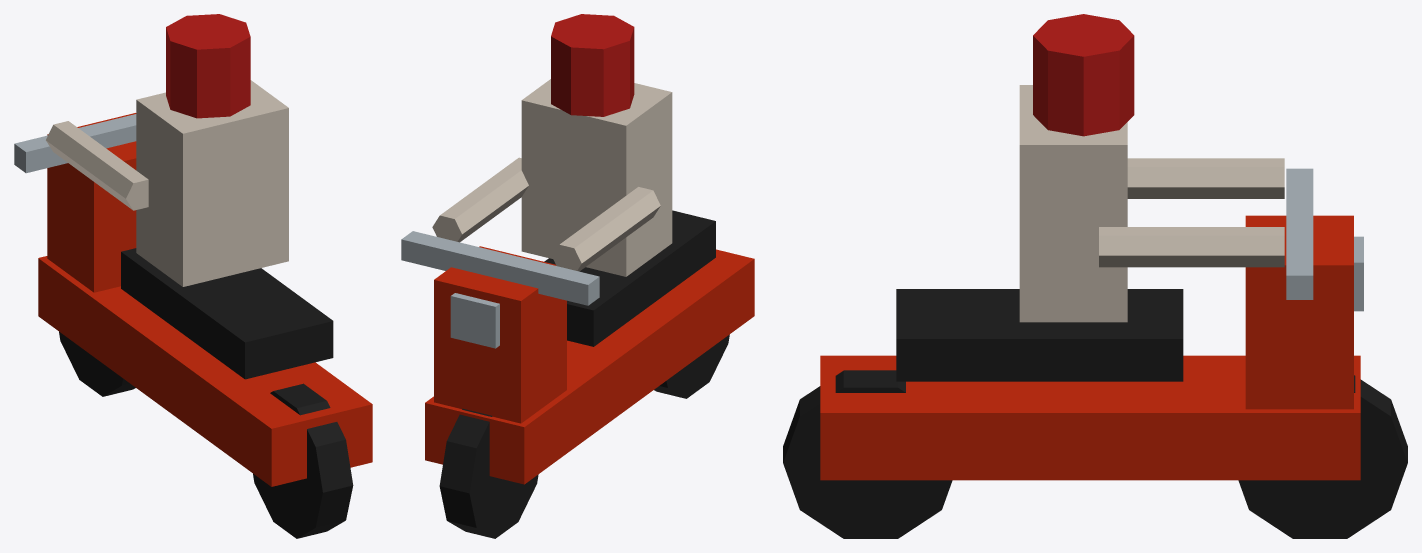
Rendered from two_wheeler.fbx.
The picture shows the model from 3 angles, left to right: view 1: azimuth 30°, elevation 25°; view 2: azimuth 150°, elevation 25°; view 3: azimuth 270°, elevation 25°; orthographic projection. The views are drawn at different scales.
Visible parts, largest first — view 1: two_wheeler; view 2: two_wheeler; view 3: two_wheeler.
Boxes of the visible parts, <box> form: two_wheeler: <box>14,14,372,538</box>; two_wheeler: <box>401,14,754,538</box>; two_wheeler: <box>783,14,1407,538</box>.
Size of the model in its own units: 0.75 by 1.62 by 1.85.
